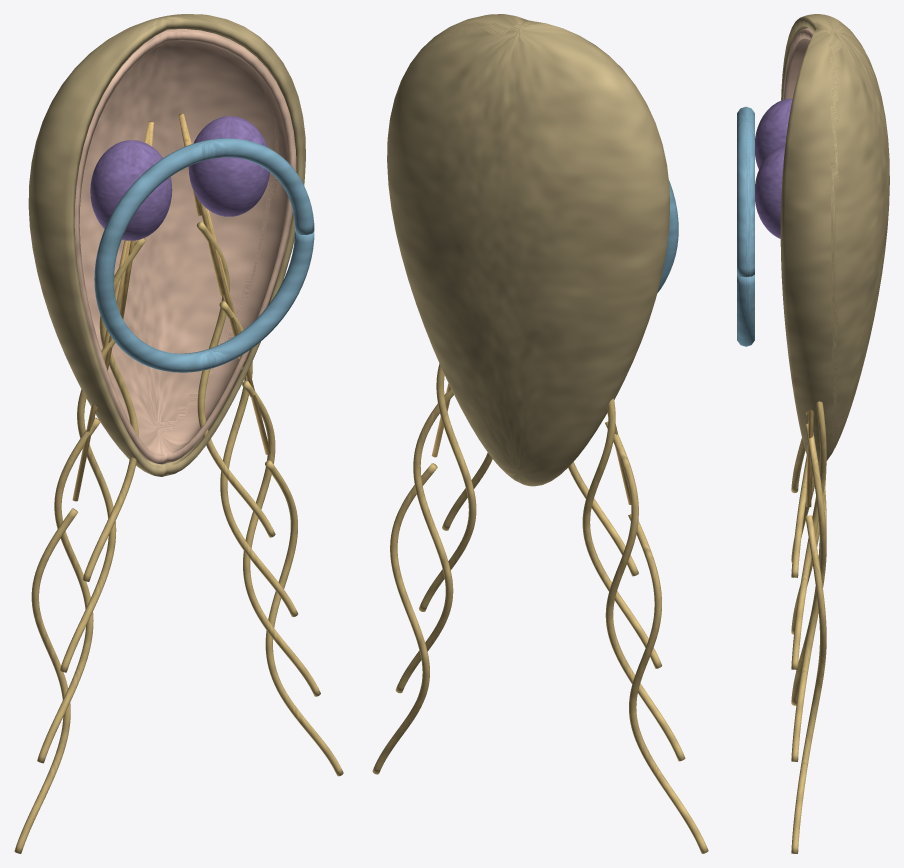
File: cutaway.glb
3 renders of one model, left to right at view 1: azimuth 30°, elevation 25°; view 2: azimuth 150°, elevation 25°; view 3: azimuth 270°, elevation 25°, orthographic. The views are drawn at different scales.
Visible parts, largest first — view 1: citoplasma_mesh, membrana_mesh, flagelo_mesh, disco_mesh, nucleo_mesh, axonemas_mesh; view 2: membrana_mesh, flagelo_mesh, disco_mesh; view 3: membrana_mesh, flagelo_mesh, disco_mesh, nucleo_mesh, citoplasma_mesh, axonemas_mesh.
Part boxes in pixels (box(x1,y1,x2,y2)): citoplasma_mesh: box(74, 29, 296, 464); membrana_mesh: box(28, 14, 305, 476); flagelo_mesh: box(14, 221, 343, 853); disco_mesh: box(94, 138, 314, 372); nucleo_mesh: box(90, 116, 269, 240); axonemas_mesh: box(72, 113, 270, 501); membrana_mesh: box(387, 14, 669, 486); flagelo_mesh: box(372, 363, 708, 853); disco_mesh: box(657, 179, 678, 292); membrana_mesh: box(780, 14, 889, 466); flagelo_mesh: box(791, 401, 826, 853); disco_mesh: box(737, 106, 754, 346); nucleo_mesh: box(755, 98, 792, 238); citoplasma_mesh: box(783, 28, 813, 99); axonemas_mesh: box(806, 409, 813, 507).
Size of the model in its own units: 1.74 by 3.97 by 0.7313.
Materials: 6 (6 with a texture image).
